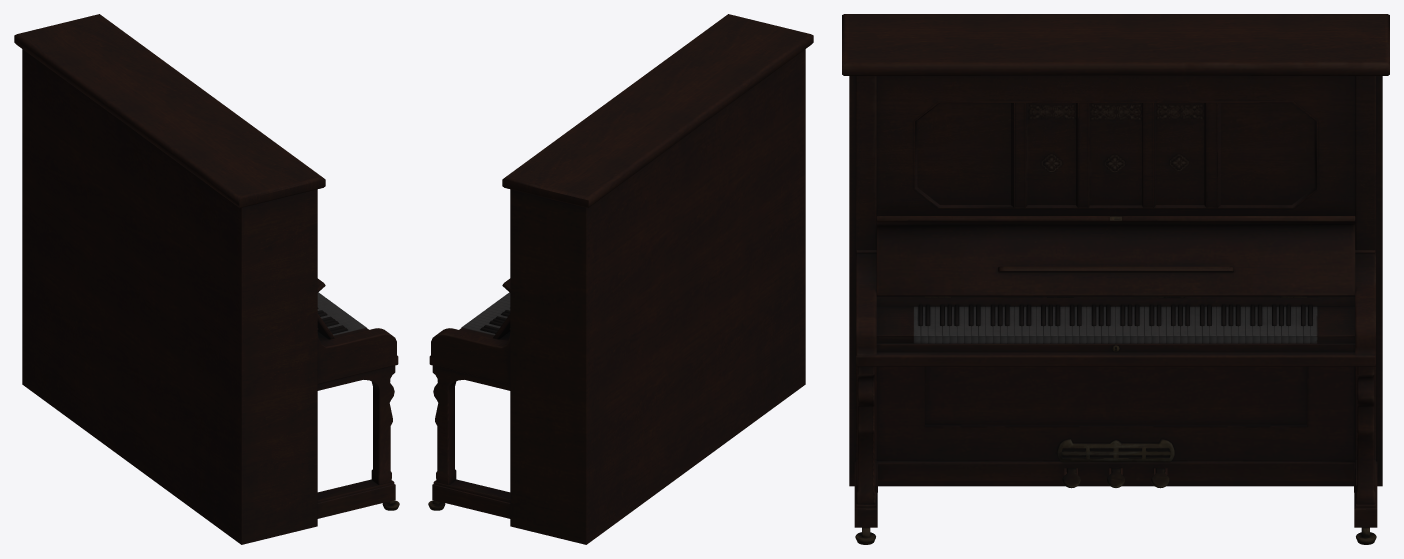
Rendered from kaede_piano.obj.
3 renders of one model, left to right at view 1: azimuth 30°, elevation 25°; view 2: azimuth 150°, elevation 25°; view 3: azimuth 270°, elevation 25°, orthographic. The views are drawn at different scales.
Visible parts, largest first — view 1: Object_6; view 2: Object_6; view 3: Object_6.
Part boxes in pixels (box(x1,y1,x2,y2)): Object_6: box(14, 14, 399, 544); Object_6: box(428, 14, 813, 544); Object_6: box(842, 14, 1389, 544).
Size of the model in its own units: 14.24 by 28.68 by 32.91.
1 material, 1 textured.
